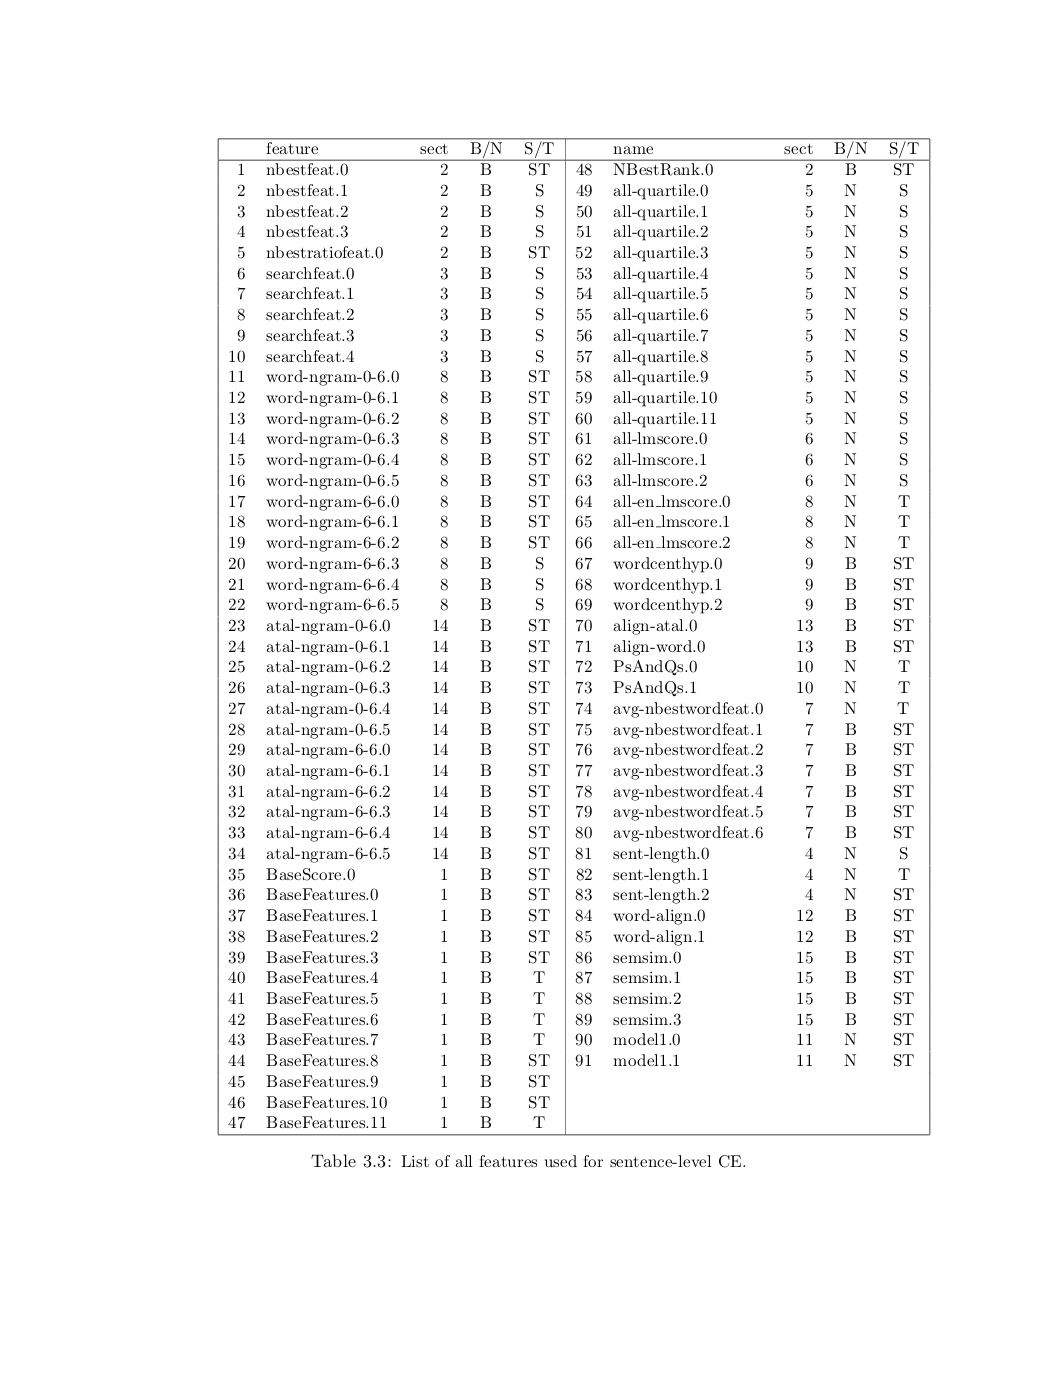Table: (217, 137, 929, 1136)
